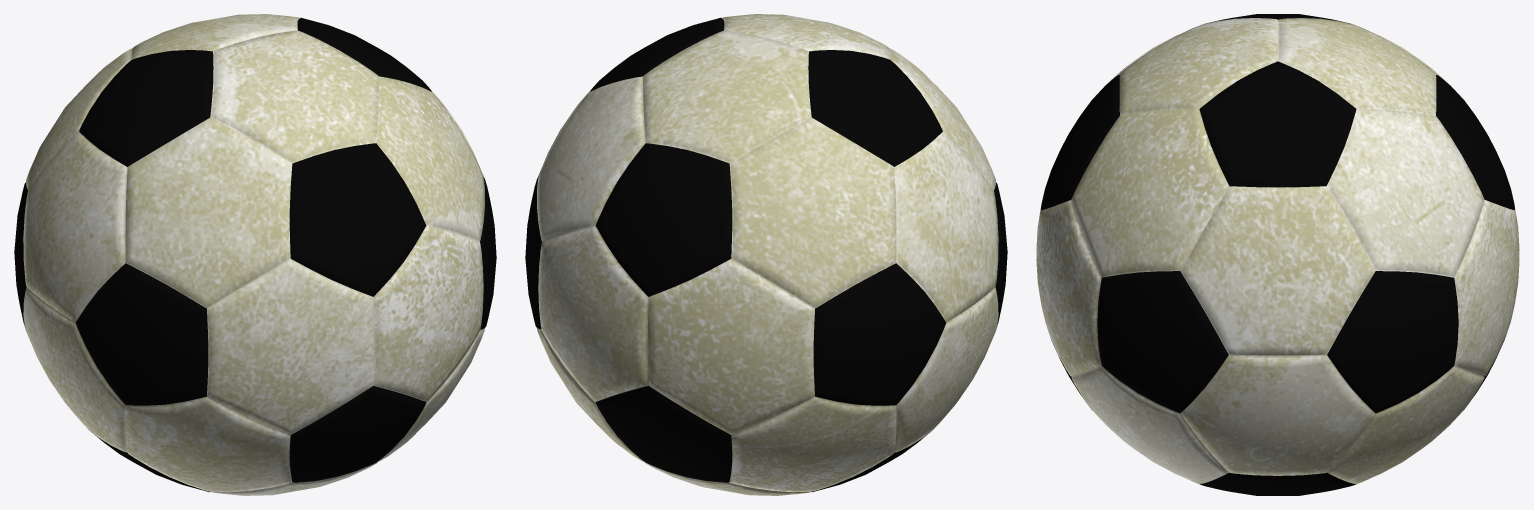
Rendered from FootBall.obj.
The picture shows the model from 3 angles, left to right: view 1: azimuth 30°, elevation 25°; view 2: azimuth 150°, elevation 25°; view 3: azimuth 270°, elevation 25°; orthographic projection.
Visible parts, largest first — view 1: FootBall; view 2: FootBall; view 3: FootBall.
Part boxes in pixels (left/top/right/bottom): FootBall: left=14, top=14, right=496, bottom=495; FootBall: left=525, top=14, right=1007, bottom=495; FootBall: left=1036, top=14, right=1519, bottom=495.
Bounding box in the file's own units: 0.7606 × 0.7606 × 0.7606.
Materials: 1 (1 with a texture image).
